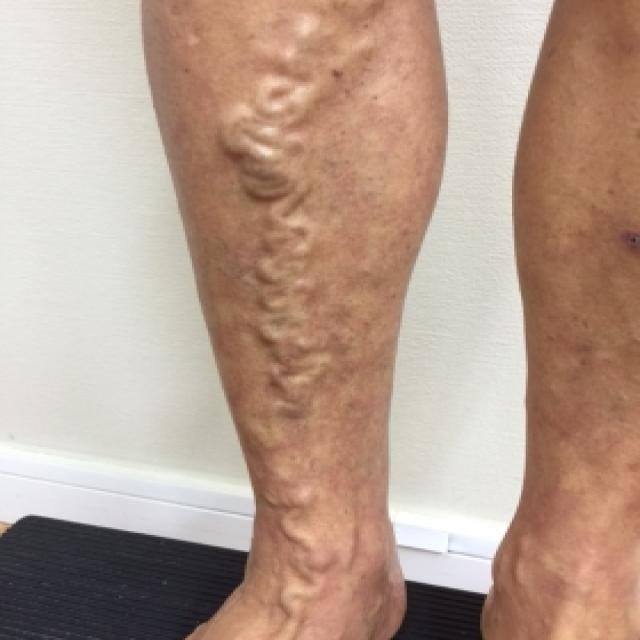Varicose: (202, 27, 408, 567)
